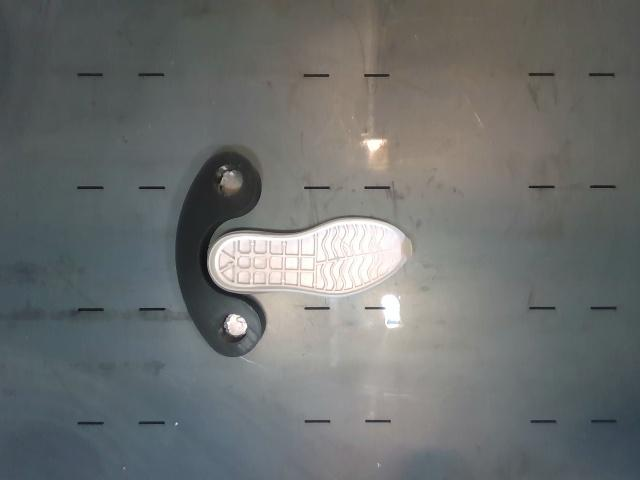shoes: (210, 220, 411, 296)
